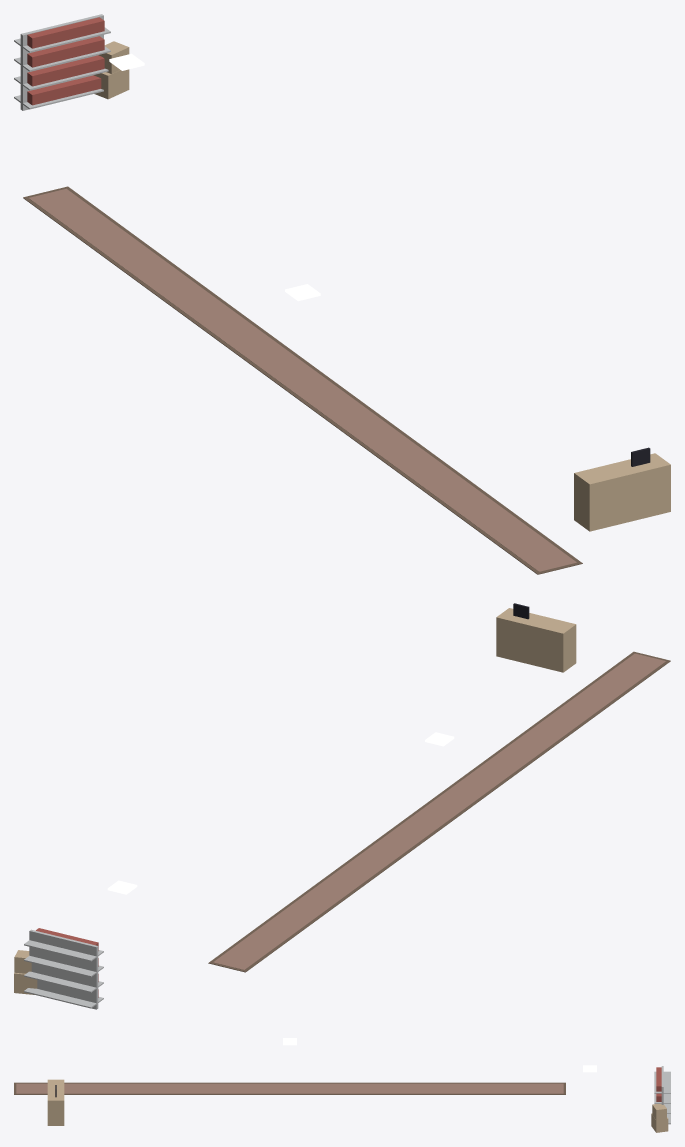
The model's file is fine-s0.glb.
3 renders of one model, top to bottom at view 1: azimuth 30°, elevation 25°; view 2: azimuth 150°, elevation 25°; view 3: azimuth 270°, elevation 25°, orthographic. The views are drawn at different scales.
Visible parts, largest first — view 1: soft-s0, shelving.000, shop-counter.000, cardboard-box.000; view 2: soft-s0, shelving.000, shop-counter.000, cardboard-box.000; view 3: soft-s0, shop-counter.000, shelving.000, cardboard-box.000.
Boxes of the visible parts, <box> form: soft-s0: <box>23,186,582,574</box>; shelving.000: <box>14,14,110,110</box>; shop-counter.000: <box>574,447,670,531</box>; cardboard-box.000: <box>94,41,129,99</box>; soft-s0: <box>208,651,670,972</box>; shelving.000: <box>24,928,103,1009</box>; shop-counter.000: <box>496,603,576,672</box>; cardboard-box.000: <box>14,950,37,994</box>; soft-s0: <box>14,1082,565,1094</box>; shop-counter.000: <box>47,1079,64,1125</box>; shelving.000: <box>654,1066,670,1124</box>; cardboard-box.000: <box>651,1104,668,1132</box>.
Size of the model in its own units: 4.23 by 1.89 by 23.52.
